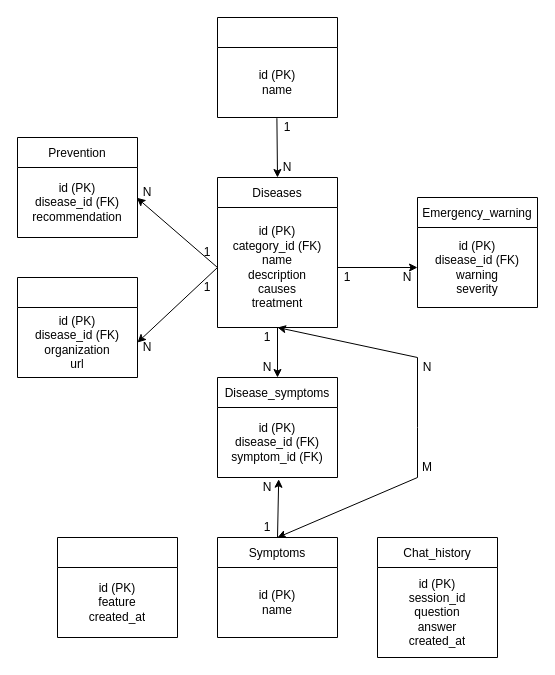
Some shapes in this 555 by 675 pixel diagram are drawn without their labels. Each missing label, with the box of its shape:
Category: (216, 16, 338, 118)
References: (16, 276, 138, 378)
Usage_statistics: (56, 536, 178, 638)
